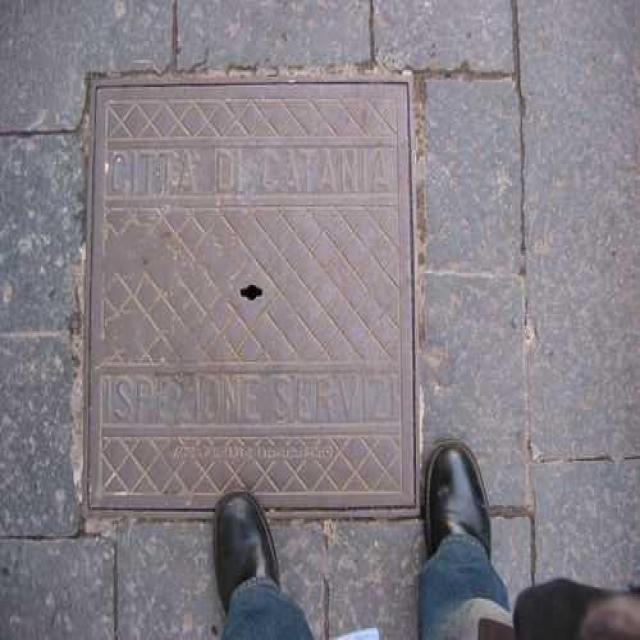manhole: (89, 79, 415, 513)
